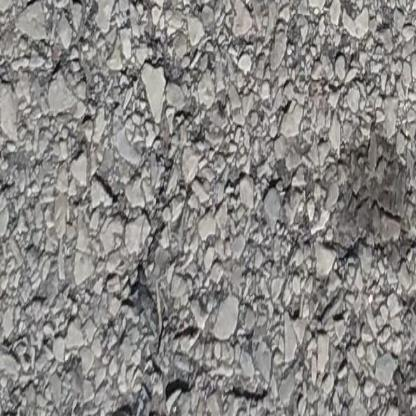Cracks: (309, 0, 416, 416)
